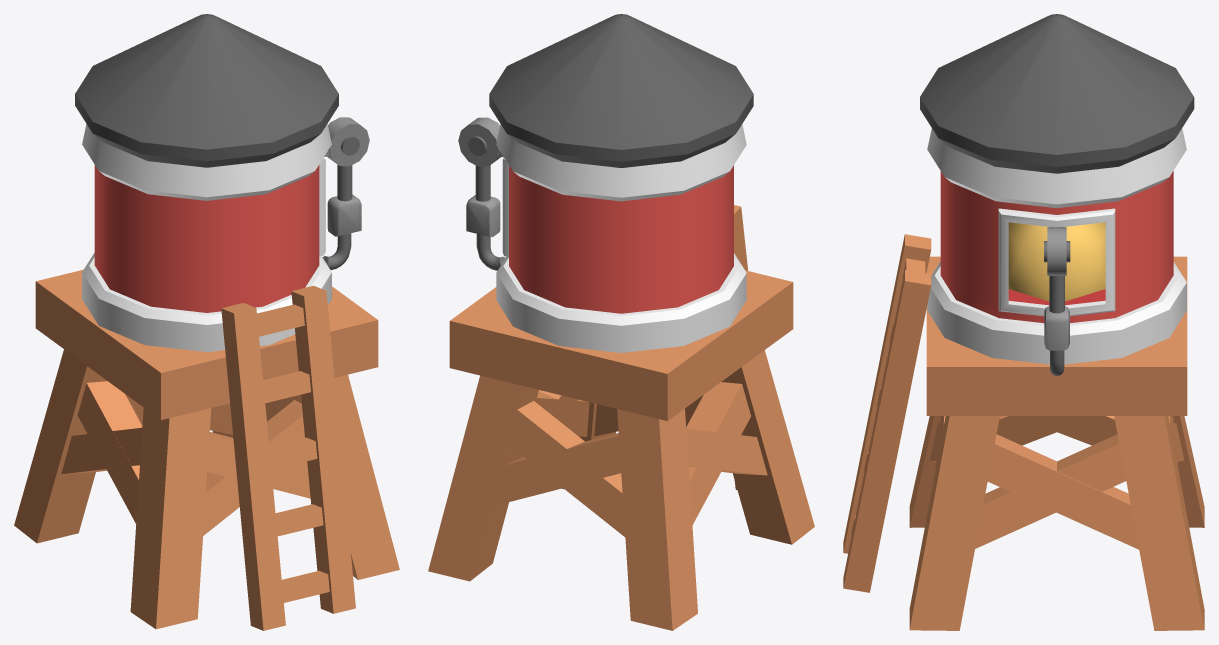
Rendered from Storage.fbx.
3 views of the same model, side by side, from view 1: azimuth 30°, elevation 25°; view 2: azimuth 150°, elevation 25°; view 3: azimuth 270°, elevation 25° (orthographic). The views are drawn at different scales.
Visible parts, largest first — view 1: Storage; view 2: Storage; view 3: Storage.
Part boxes in pixels (x1=…): Storage: x1=14, y1=14, x2=399, y2=630; Storage: x1=428, y1=14, x2=814, y2=630; Storage: x1=843, y1=14, x2=1204, y2=630.
Bounding box in the file's own units: 241 × 436 × 258.
